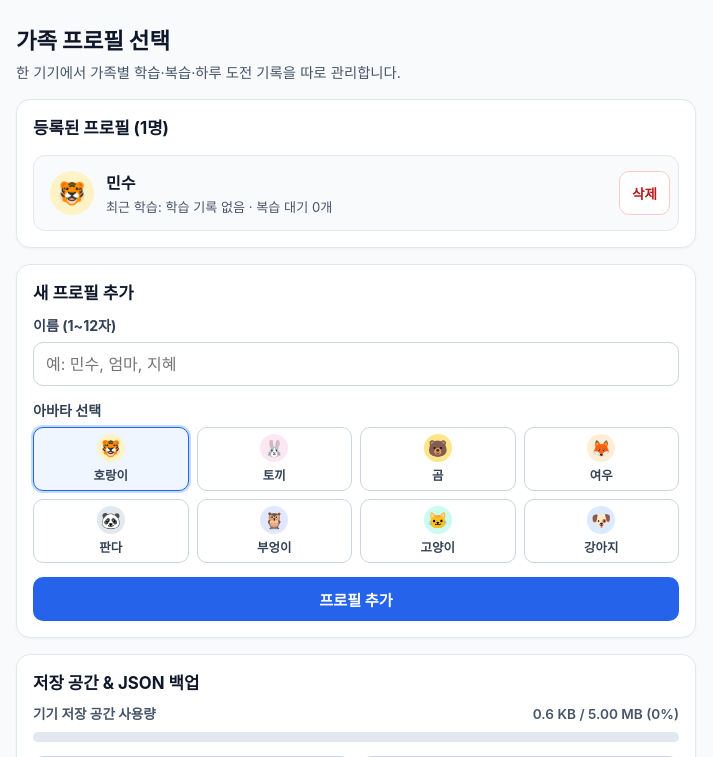
Test case: M4 UI & Full User Flow Integration Tests › 1. Isolates active sessions, exposure stats, and review items between profiles and supports 2-step delete
Earlier steps of the test are not shown.
Later steps or results of the test are not shown.
Expected: the button with aria-label "민수 프로필로 시작" is shown, [42, 164, 609, 222]
Type "서연" into the field labelled "이름 (1~12자)".
click(356, 364); type("서연")  # box [33, 342, 679, 386]
Click the button "🐰 토끼".
click(274, 459)  # box [196, 427, 352, 491]
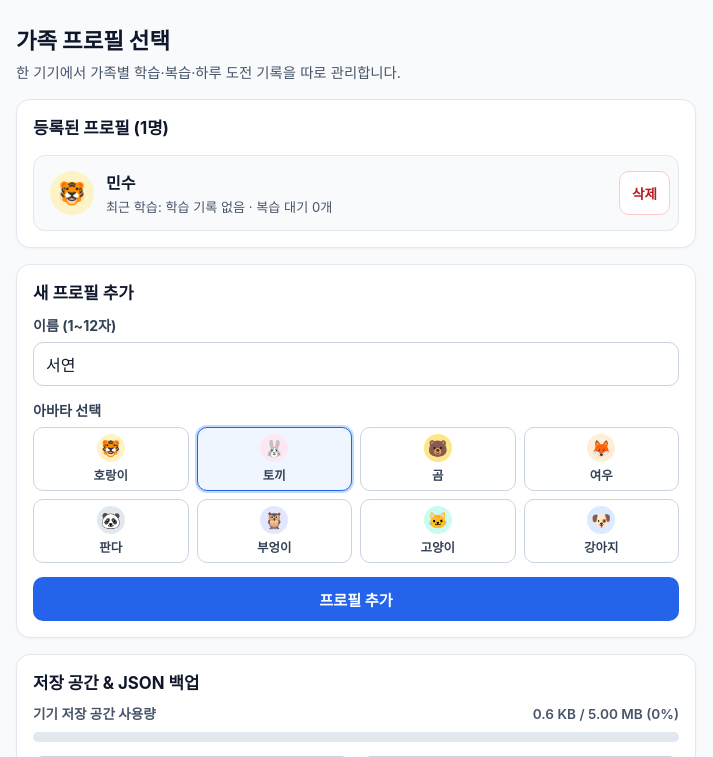
Click the button "프로필 추가".
click(356, 599)  # box [33, 577, 679, 621]
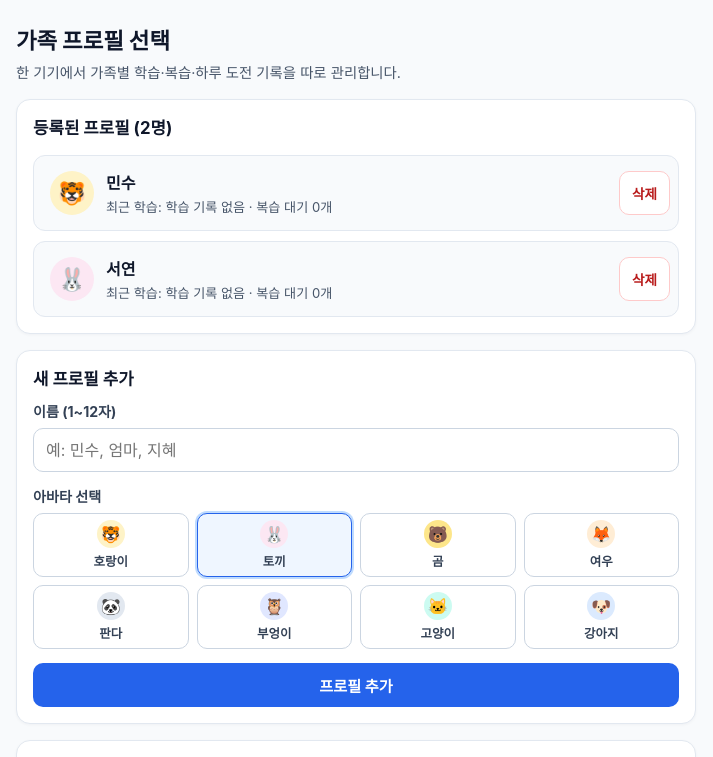
Expected: the button with aria-label "서연 프로필로 시작" is shown, [42, 250, 609, 308]
Click the button with aria-label "민수 프로필로 시작".
click(72, 193)  # box [42, 164, 609, 222]
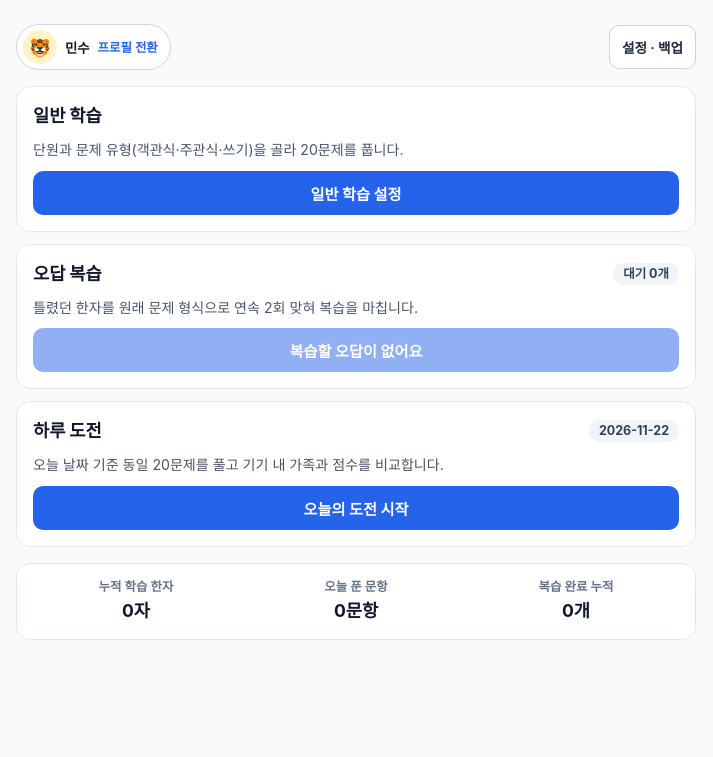
Expected: the element with test id "home-screen" is shown
Click the button "일반 학습 설정".
click(356, 192)  # box [33, 170, 679, 214]
(page scrolled)
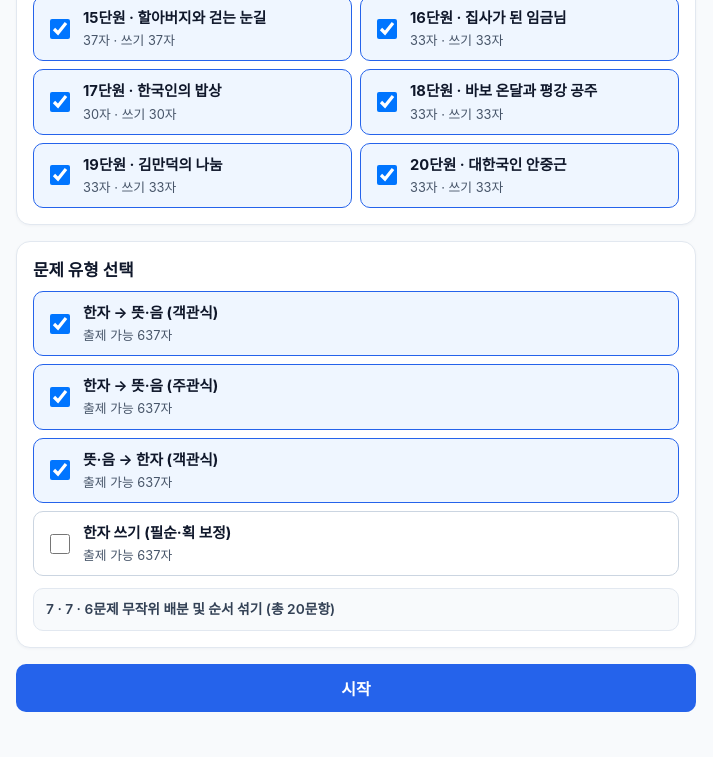
Click the button "시작".
click(356, 688)  # box [16, 664, 696, 712]
(page scrolled)
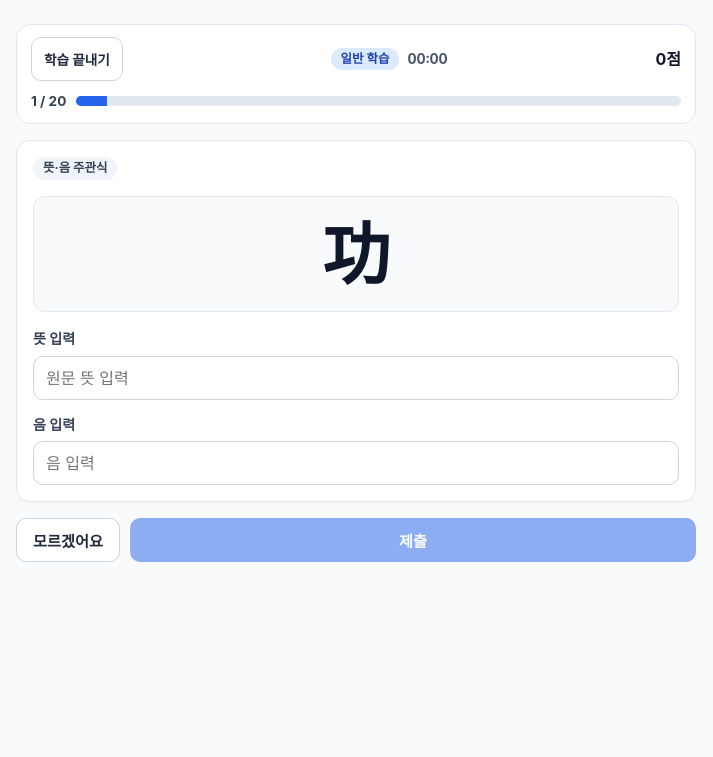
Expected: the element with test id "quiz-screen" is shown
Click the button "모르겠어요".
click(68, 540)  # box [16, 518, 120, 562]
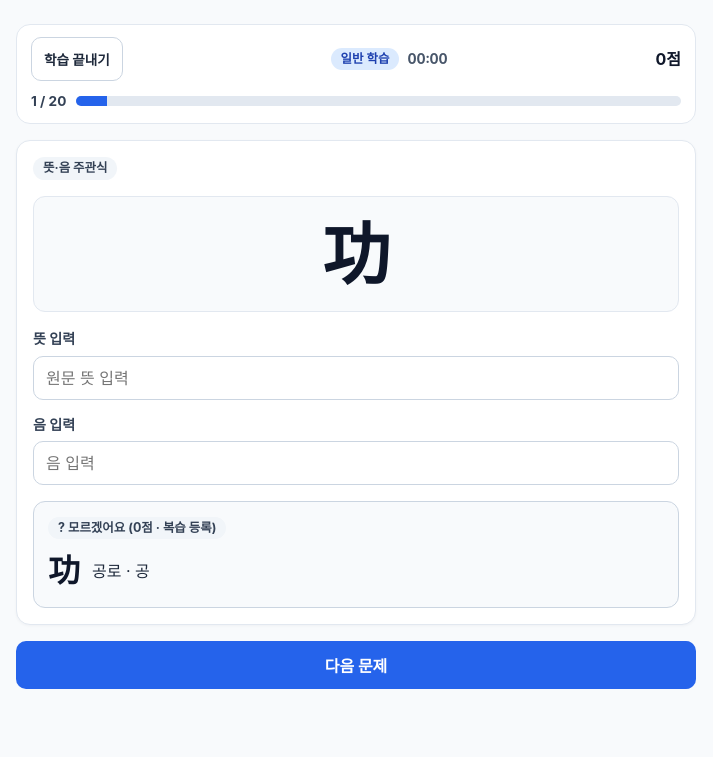
Expected: the message "? 모르겠어요 (0점 · 복습 등록) 功 공로 · 공" is shown, [33, 501, 679, 608]
